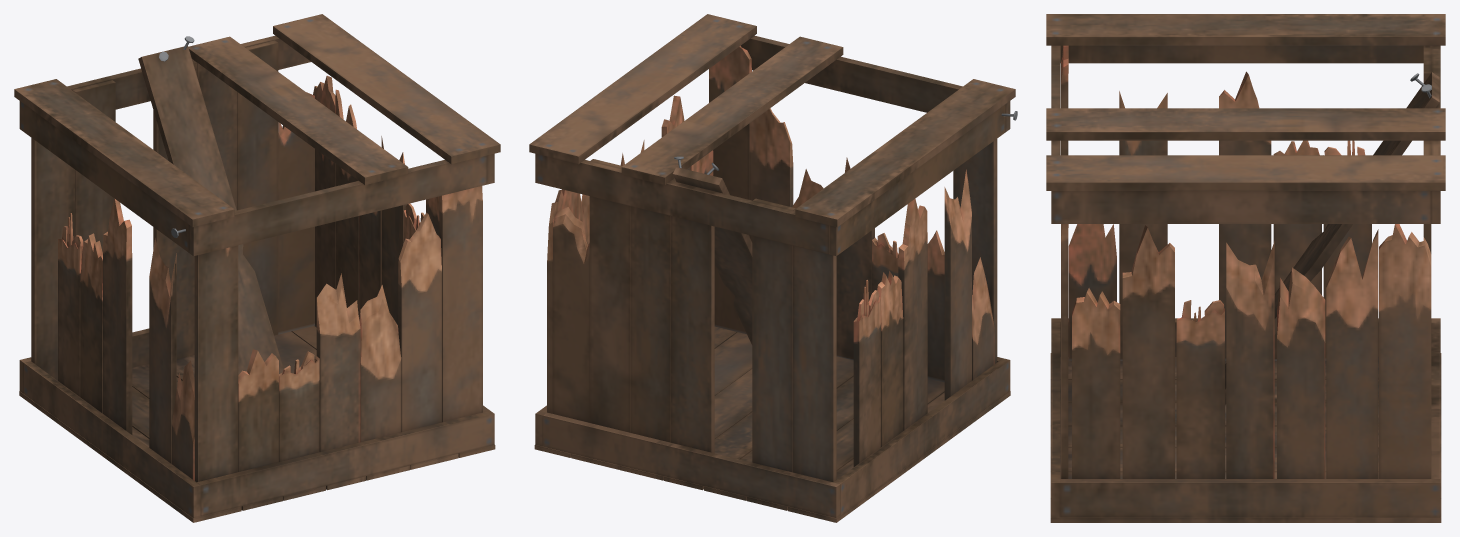
The model's file is DamagedCrate04.glb.
The picture shows the model from 3 angles, left to right: view 1: azimuth 30°, elevation 25°; view 2: azimuth 150°, elevation 25°; view 3: azimuth 270°, elevation 25°; orthographic projection. The views are drawn at different scales.
Visible parts, largest first — view 1: Cube_006; view 2: Cube_006; view 3: Cube_006.
Part boxes in pixels (left/top/right/bottom): Cube_006: left=14, top=14, right=500, bottom=522; Cube_006: left=529, top=14, right=1017, bottom=522; Cube_006: left=1046, top=14, right=1445, bottom=522.
Bounding box in the file's own units: 0.8439 × 0.8169 × 0.8184.
1 material, 1 textured.
